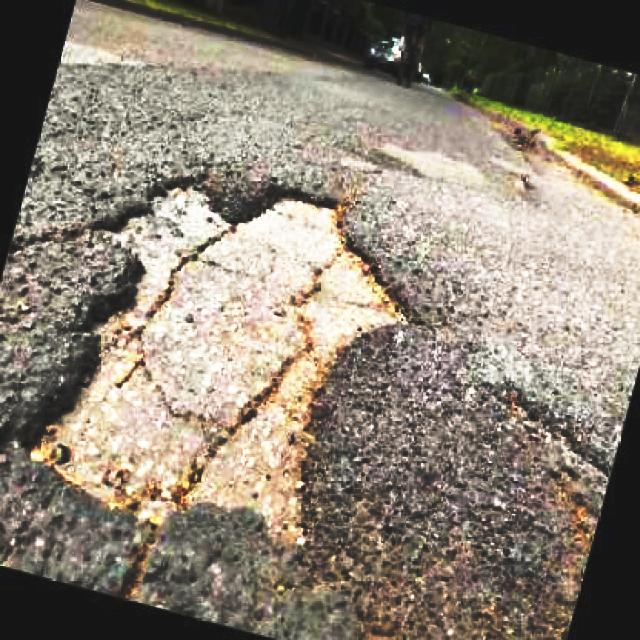pothole: (23, 154, 419, 563)
